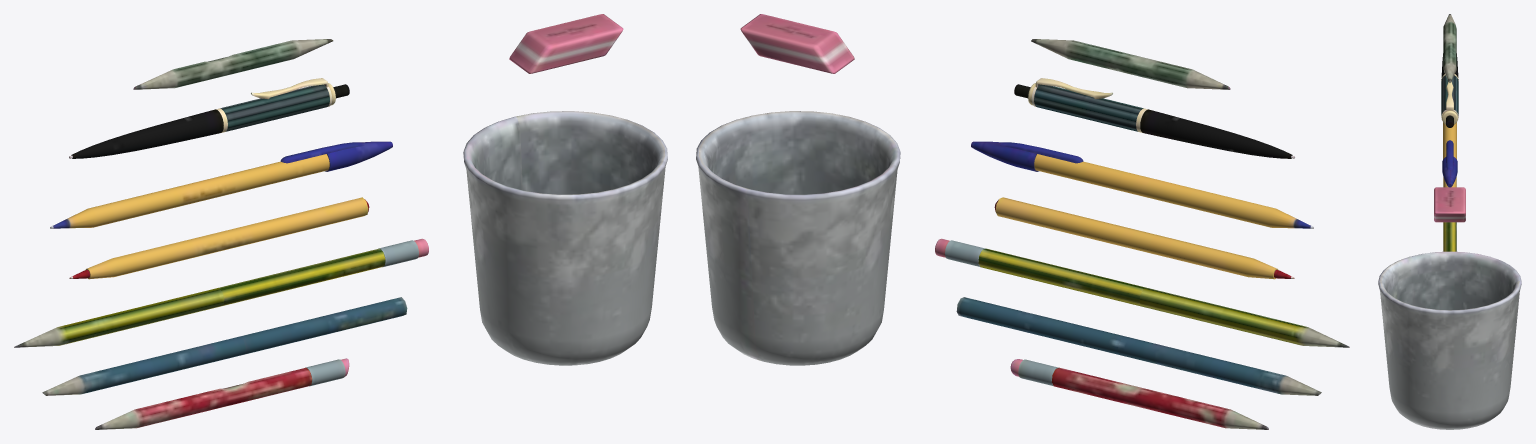
Rendered from stationery.glb.
3 views of the same model, side by side, from view 1: azimuth 30°, elevation 25°; view 2: azimuth 150°, elevation 25°; view 3: azimuth 270°, elevation 25° (orthographic). The views are drawn at different scales.
Visible parts, largest first — view 1: stationery_supplies_pencilcup, stationery_supplies_pencil_new_a, stationery_supplies_pencil_new_b, stationery_supplies_pen_blue, stationery_supplies_pen_fancy, stationery_supplies_pen_red, stationery_supplies_pencil_used, stationery_supplies_eraser, stationery_supplies_pencil_old; view 2: stationery_supplies_pencilcup, stationery_supplies_pencil_new_a, stationery_supplies_pencil_new_b, stationery_supplies_pen_blue, stationery_supplies_pen_fancy, stationery_supplies_pen_red, stationery_supplies_pencil_used, stationery_supplies_eraser, stationery_supplies_pencil_old; view 3: stationery_supplies_pencilcup, stationery_supplies_eraser, stationery_supplies_pen_fancy, stationery_supplies_pen_blue, stationery_supplies_pencil_old, stationery_supplies_pencil_new_a.
Boxes of the visible parts, bbox=[...] form: stationery_supplies_pencilcup: bbox=[463, 111, 667, 365]; stationery_supplies_pencil_new_a: bbox=[14, 238, 428, 347]; stationery_supplies_pencil_new_b: bbox=[42, 297, 407, 395]; stationery_supplies_pen_blue: bbox=[50, 141, 392, 228]; stationery_supplies_pen_fancy: bbox=[69, 78, 349, 158]; stationery_supplies_pen_red: bbox=[69, 197, 369, 279]; stationery_supplies_pencil_used: bbox=[95, 358, 349, 429]; stationery_supplies_eraser: bbox=[509, 14, 623, 73]; stationery_supplies_pencil_old: bbox=[133, 39, 333, 89]; stationery_supplies_pencilcup: bbox=[696, 111, 900, 365]; stationery_supplies_pencil_new_a: bbox=[935, 238, 1349, 347]; stationery_supplies_pencil_new_b: bbox=[956, 297, 1321, 395]; stationery_supplies_pen_blue: bbox=[971, 141, 1313, 228]; stationery_supplies_pen_fancy: bbox=[1014, 78, 1294, 158]; stationery_supplies_pen_red: bbox=[994, 197, 1294, 279]; stationery_supplies_pencil_used: bbox=[1010, 359, 1268, 429]; stationery_supplies_eraser: bbox=[740, 14, 854, 73]; stationery_supplies_pencil_old: bbox=[1031, 39, 1230, 89]; stationery_supplies_pencilcup: bbox=[1378, 251, 1521, 429]; stationery_supplies_eraser: bbox=[1434, 187, 1465, 222]; stationery_supplies_pen_fancy: bbox=[1441, 53, 1458, 127]; stationery_supplies_pen_blue: bbox=[1442, 122, 1457, 187]; stationery_supplies_pencil_old: bbox=[1443, 14, 1456, 82]; stationery_supplies_pencil_new_a: bbox=[1443, 222, 1456, 251].
Bounding box in the file's own units: 0.3019 × 0.1643 × 0.0837.
1 material, 1 textured.
